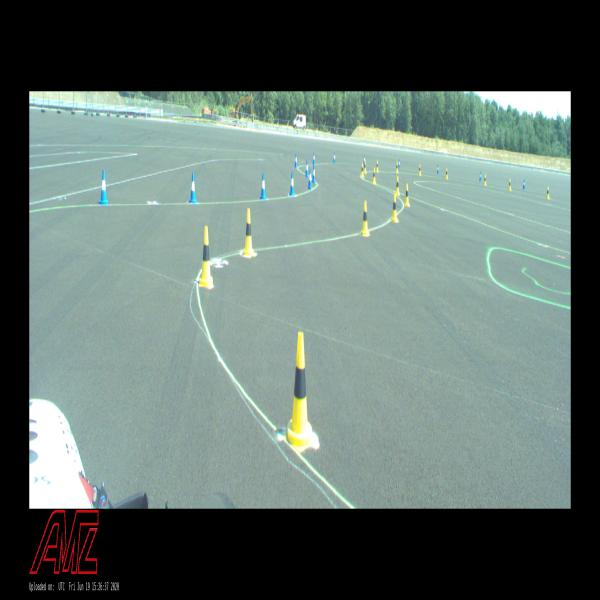blue_cone: (100, 170, 108, 204), (189, 172, 197, 203), (260, 173, 266, 199), (289, 172, 295, 195), (308, 168, 312, 188), (312, 165, 316, 183), (305, 160, 309, 177), (294, 154, 298, 168), (333, 153, 336, 163), (398, 159, 401, 168), (313, 152, 315, 164), (479, 172, 482, 180), (364, 155, 366, 165), (523, 179, 525, 188), (437, 165, 439, 174)
yellow_cone: (288, 331, 312, 447), (199, 226, 213, 286), (243, 208, 254, 256), (361, 201, 369, 235), (391, 194, 398, 222), (404, 184, 410, 206), (395, 176, 400, 195), (372, 168, 376, 184), (546, 187, 550, 199), (361, 163, 364, 177), (376, 160, 379, 173), (508, 179, 511, 190), (445, 168, 448, 179), (364, 160, 366, 173), (419, 164, 421, 176), (484, 174, 486, 186), (396, 162, 398, 173)
